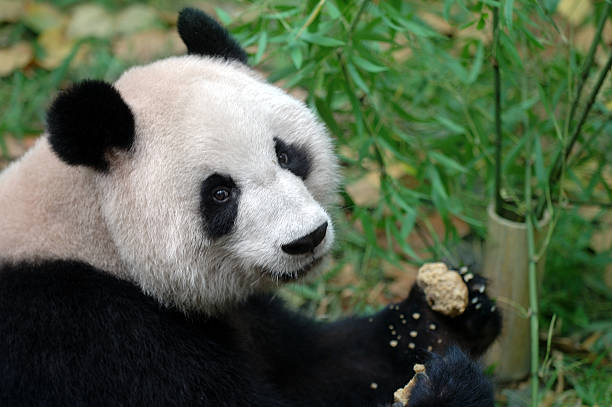panda: (27, 6, 379, 340)
